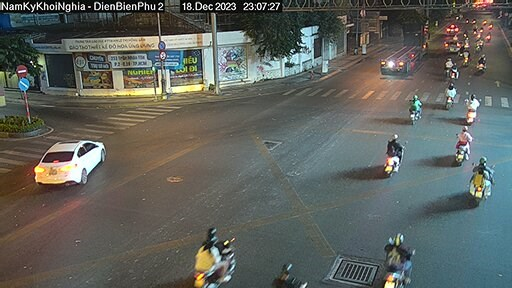car: (30, 131, 110, 186)
motorbike: (172, 224, 254, 288), (366, 238, 443, 288), (461, 155, 510, 204), (372, 136, 418, 179), (444, 123, 475, 162), (460, 97, 492, 125), (404, 102, 430, 130), (438, 77, 462, 107), (474, 54, 495, 73), (456, 47, 474, 63), (437, 57, 451, 66)
truck: (378, 20, 432, 74)
